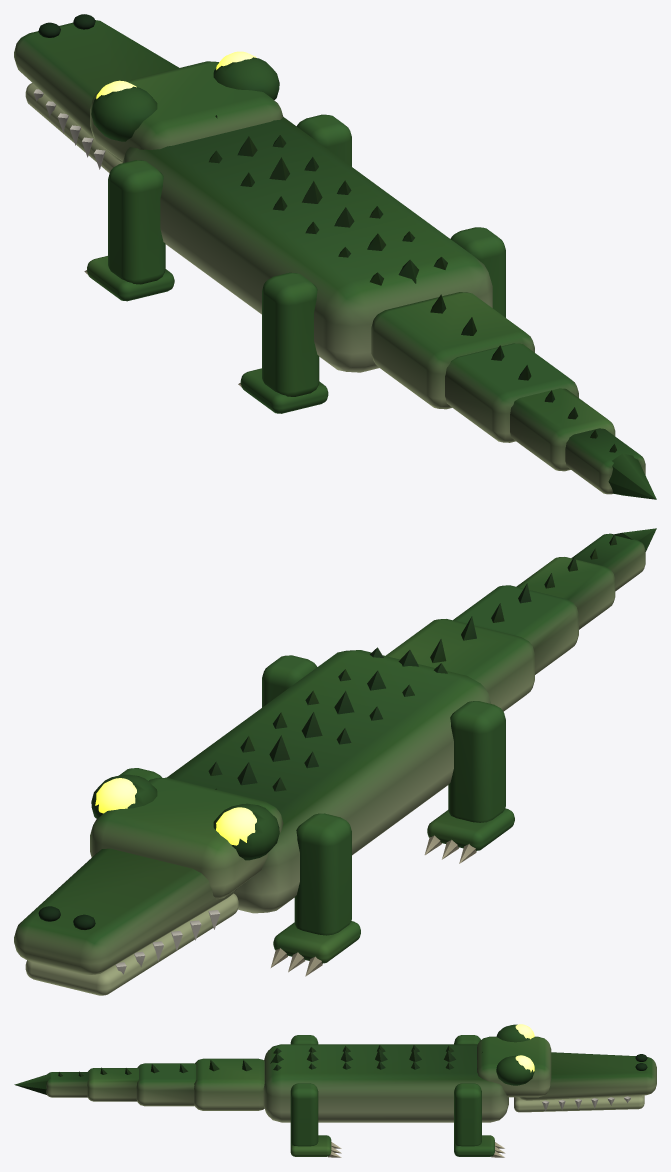
Rendered from cocodrilo-Bx4nODQ3.glb.
3 views of the same model, one above another, from view 1: azimuth 30°, elevation 25°; view 2: azimuth 150°, elevation 25°; view 3: azimuth 270°, elevation 25° (orthographic). The views are drawn at different scales.
Visible parts, largest first — view 1: Cuerpo, Cabeza, Cola 0, Pata.001, Pata.003, Cola 1, Cola 2, Cola 3, Pata.002, Pata; view 2: Cuerpo, Cabeza, Pata.003, Pata.001, Cola 0, Cola 1, Cola 2, Cola 3, Pata.002, Ojo, Ojo.001; view 3: Cuerpo, Cabeza, Cola 0, Cola 1, Pata.002, Pata, Cola 2, Cola 3, Pata.003, Pata.001.
Part boxes in pixels (bbox=[...]): Cuerpo: bbox=[123, 115, 492, 372]; Cabeza: bbox=[14, 14, 283, 172]; Cola 0: bbox=[371, 292, 534, 409]; Pata.001: bbox=[84, 160, 174, 301]; Pata.003: bbox=[238, 272, 328, 413]; Cola 1: bbox=[445, 343, 578, 442]; Cola 2: bbox=[510, 388, 615, 471]; Cola 3: bbox=[565, 428, 656, 499]; Pata.002: bbox=[450, 227, 505, 317]; Pata: bbox=[296, 114, 351, 166]; Cuerpo: bbox=[167, 647, 491, 913]; Cabeza: bbox=[14, 774, 283, 995]; Pata.003: bbox=[424, 701, 514, 863]; Pata.001: bbox=[271, 813, 360, 976]; Cola 0: bbox=[385, 616, 534, 711]; Cola 1: bbox=[453, 583, 578, 674]; Cola 2: bbox=[516, 556, 615, 629]; Cola 3: bbox=[571, 528, 656, 591]; Pata.002: bbox=[262, 655, 317, 707]; Ojo: bbox=[216, 807, 256, 845]; Ojo.001: bbox=[95, 778, 136, 813]; Cuerpo: bbox=[263, 1044, 508, 1122]; Cabeza: bbox=[477, 1024, 656, 1112]; Cola 0: bbox=[194, 1058, 264, 1110]; Cola 1: bbox=[136, 1063, 196, 1106]; Pata.002: bbox=[290, 1083, 341, 1157]; Pata: bbox=[454, 1083, 505, 1157]; Cola 2: bbox=[87, 1067, 138, 1101]; Cola 3: bbox=[14, 1071, 88, 1097]; Pata.003: bbox=[290, 1035, 318, 1044]; Pata.001: bbox=[454, 1035, 480, 1044].
Size of the model in its own units: 1.82 by 1.19 by 7.86.
